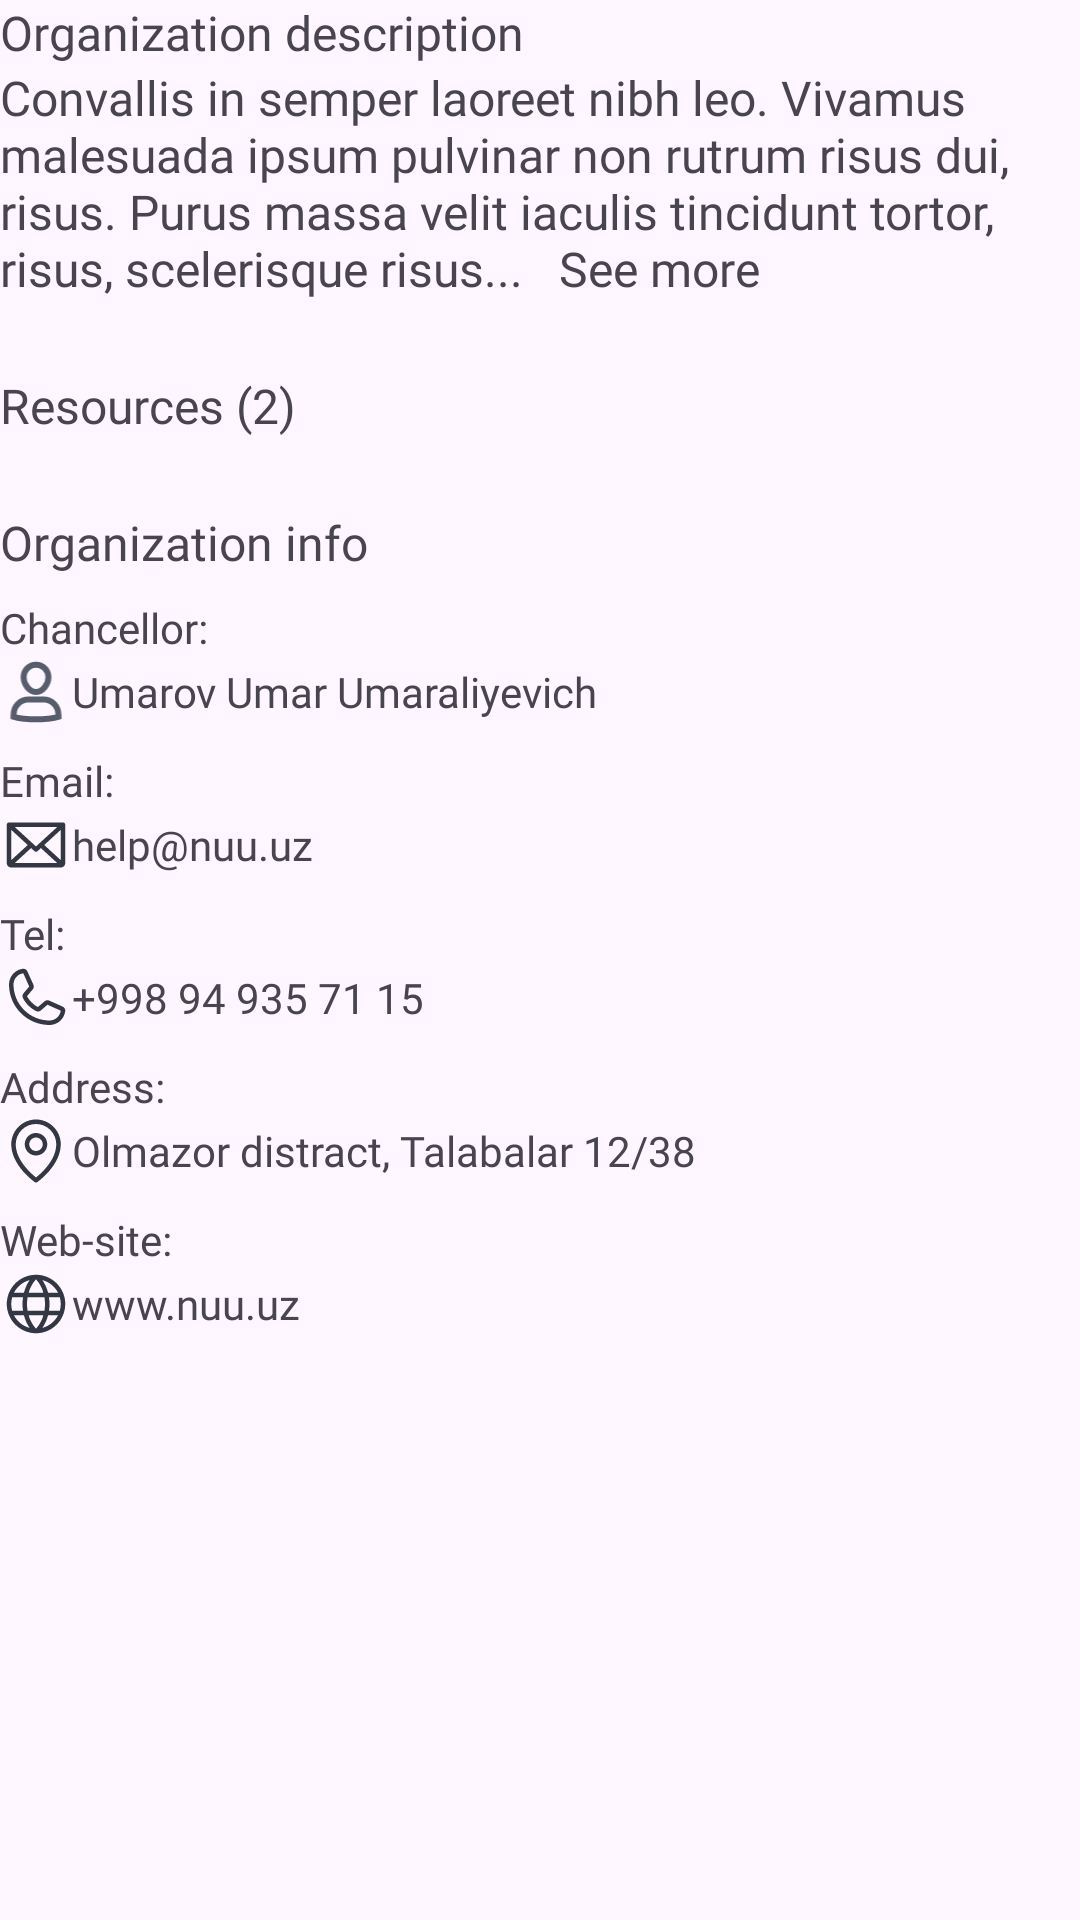

Icons on this 1080w x 1920h Android screen, each with its box as (x1, y1, x2, y2):
phone: (9, 968, 66, 1025)
profile: (10, 661, 62, 723)
